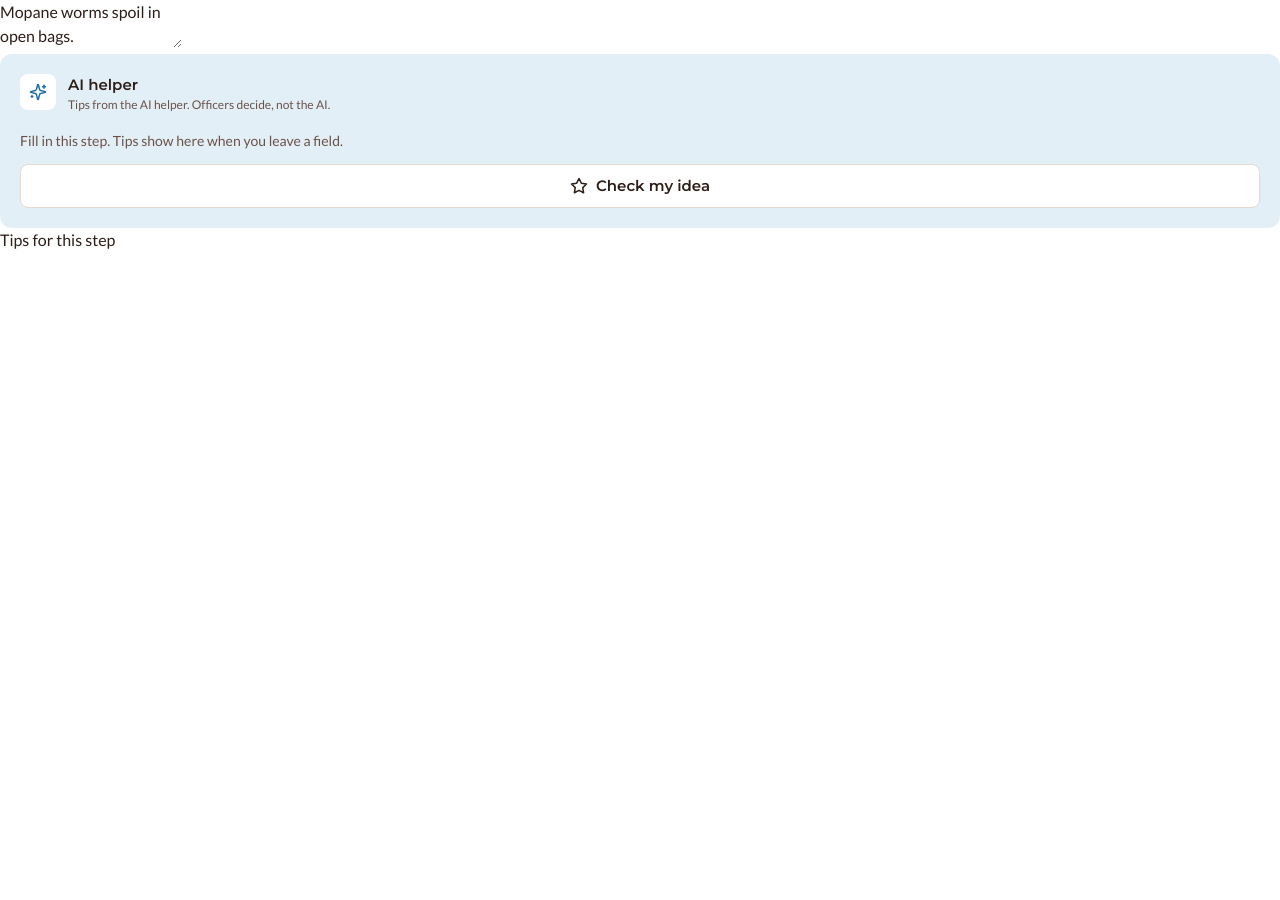
Scenario: AiHelperPanel › Check my idea opens the full review of every step
The image size is (1280, 900).
What coordinates should you click on to do the following:
click the button "Check my idea"
I would click on:
 (640, 186)
Its box is [20, 164, 1260, 208].
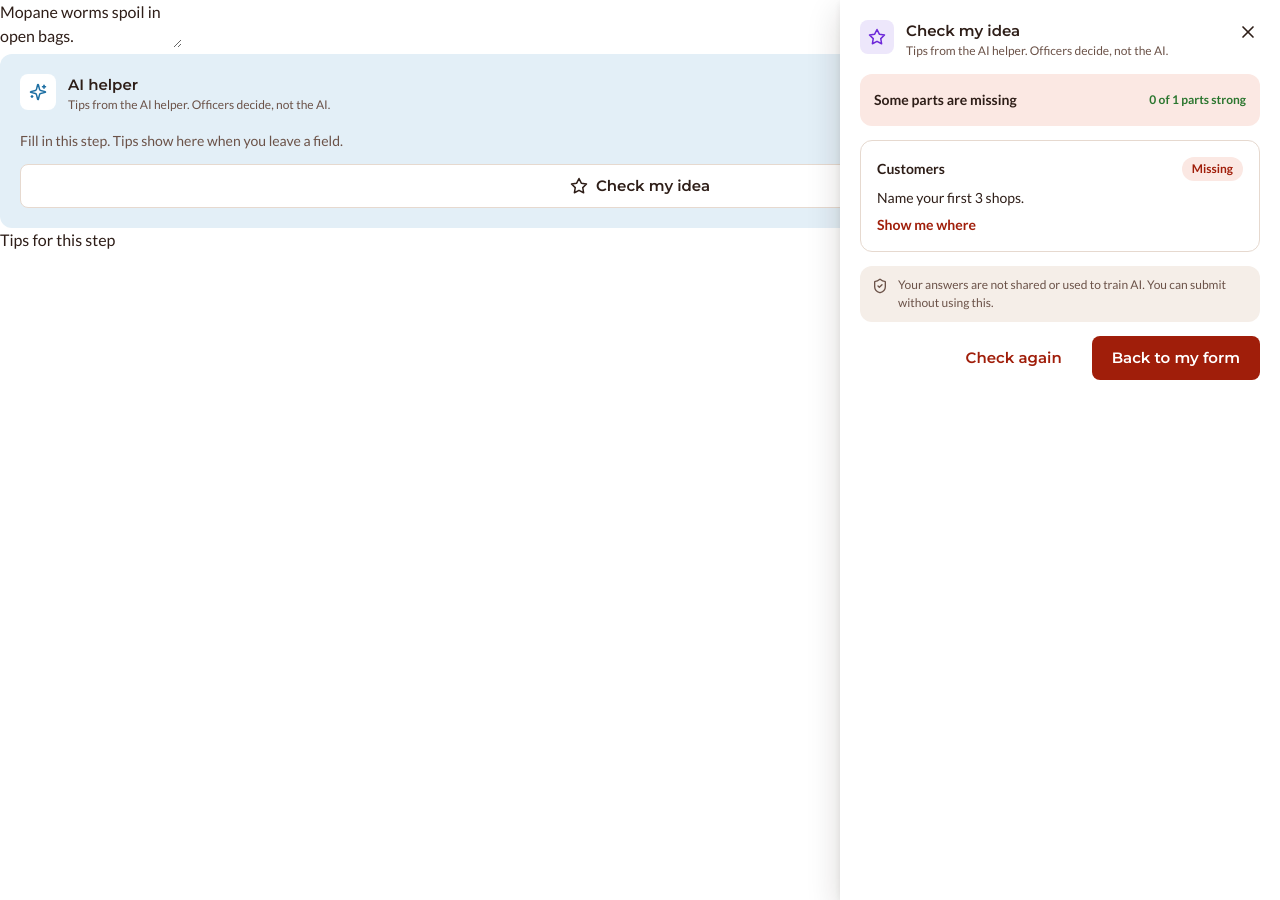
Result: the dialog shows "Some parts are missing" at [874, 91, 1017, 108]
Result: the dialog shows "0 of 1 parts strong" at [1149, 92, 1246, 107]
Result: the dialog shows "Name your first 3 shops." at [877, 189, 1024, 206]
